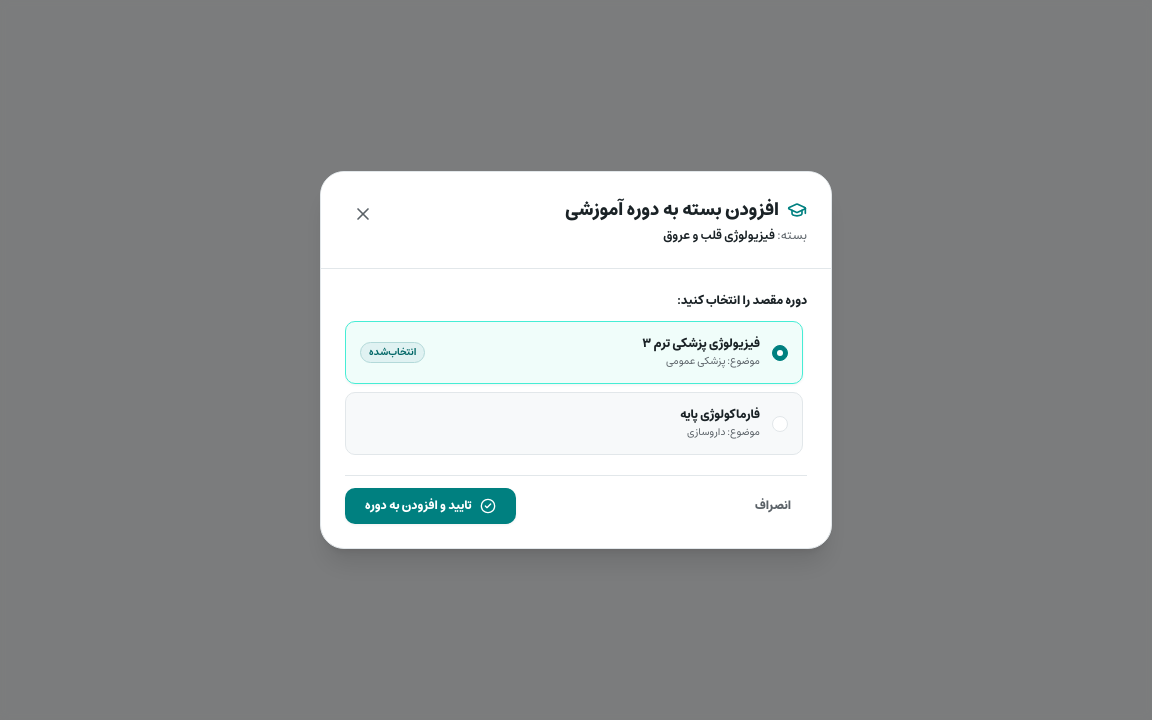
Test: Public Content Library & Content Packs Web UI Suite › Add to Course Selection & Result Flows › allows selecting a different course (Course B) in multi-course account and sends correct courseId
This screenshot has width=1152, height=720.
Click second course (فارماکولوژی پایه)
What coordinates should you click on to do the following:
click the heading "فارماکولوژی پایه"
I would click on:
 (720, 415)
Its box is 680,407 -> 760,423.
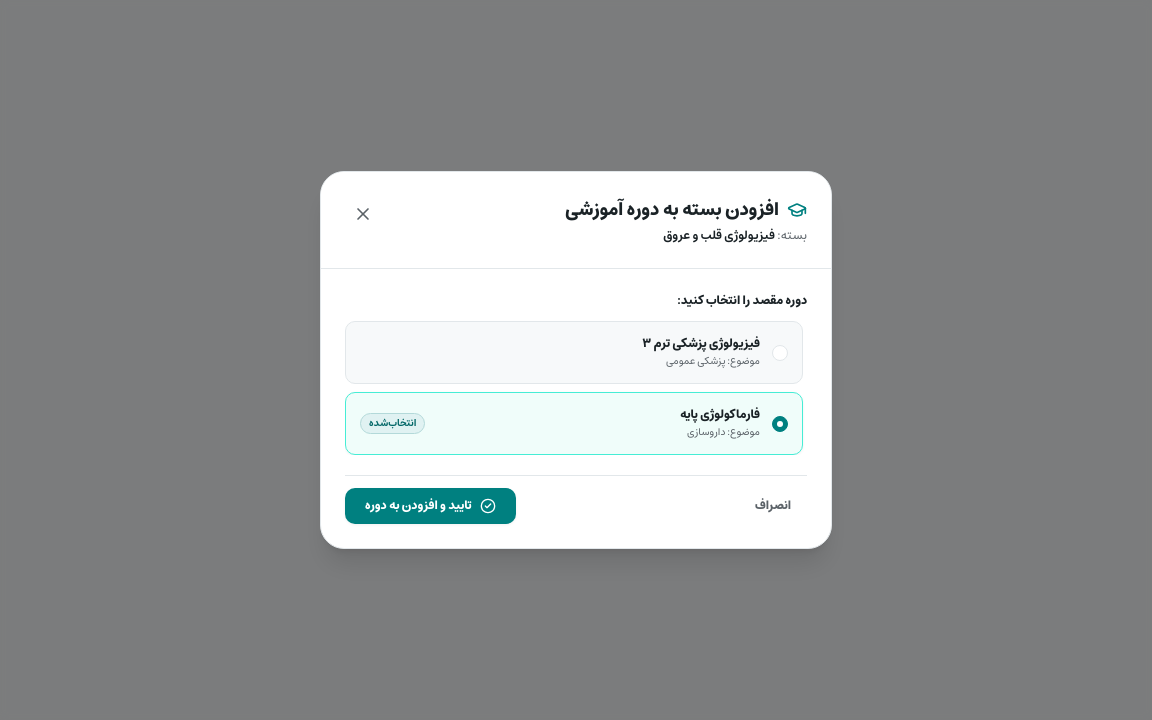
What coordinates should you click on to do the following:
click the button "تایید و افزودن به دوره"
I would click on:
 (430, 506)
Its box is 345,488 -> 516,524.
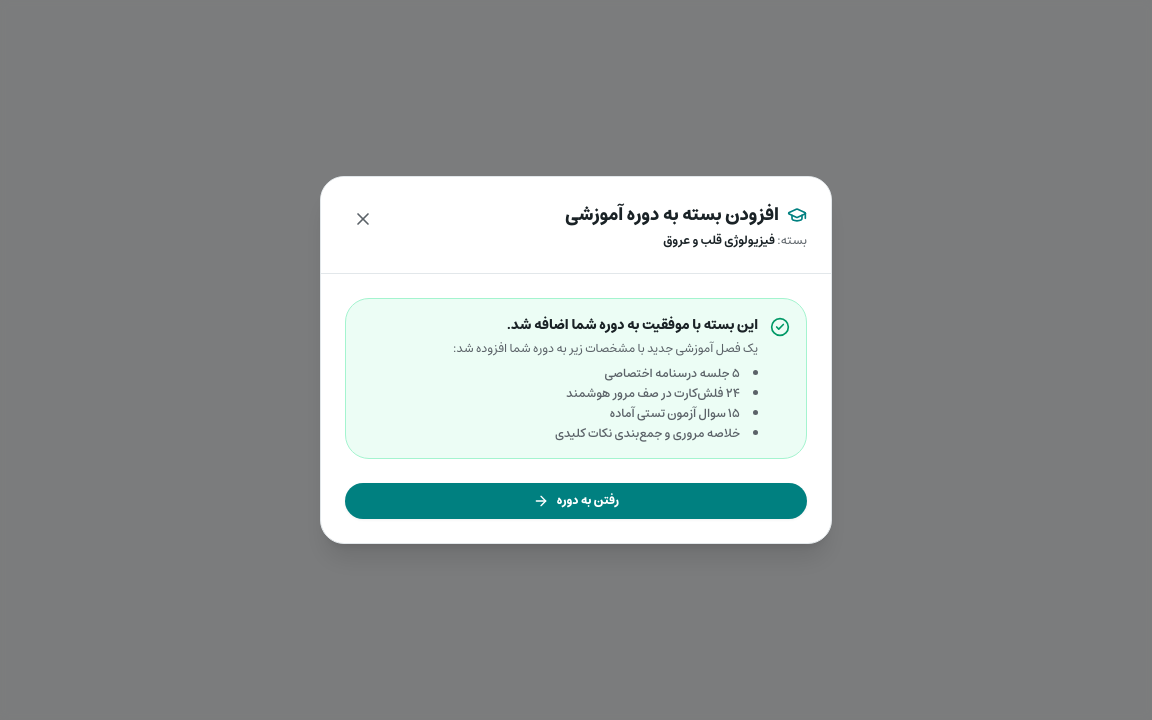
Expected: the heading "این بسته با موفقیت به دوره شما اضافه شد." is shown, 507,313 -> 758,337
